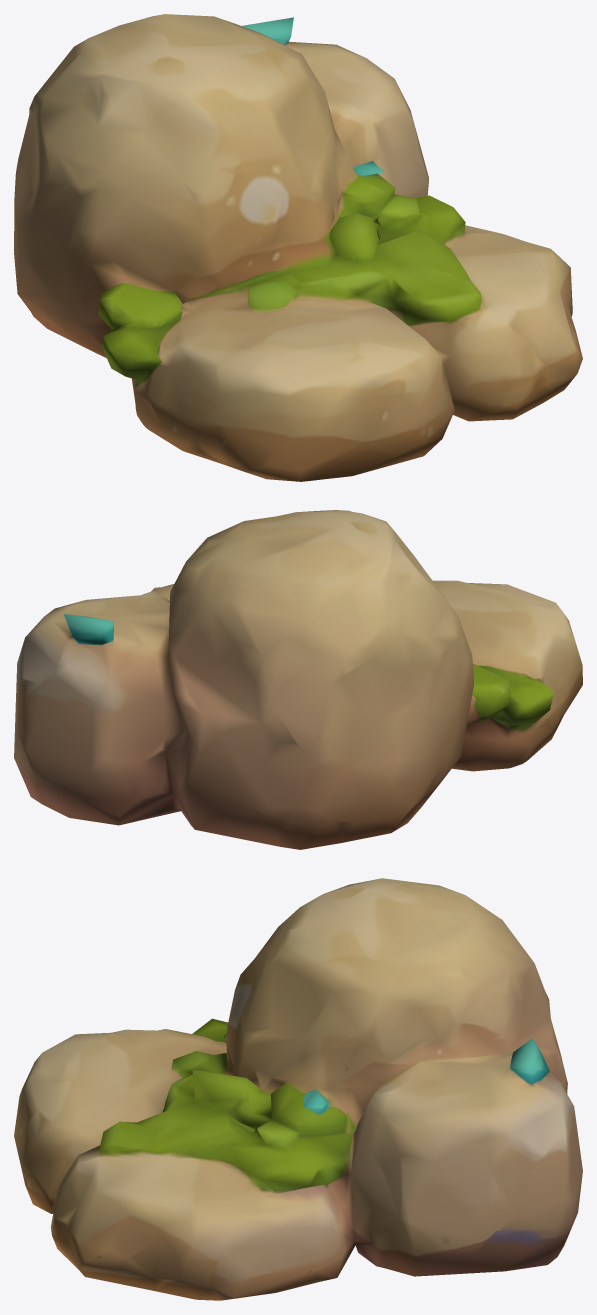
The model's file is textures.glb.
3 renders of one model, top to bottom at view 1: azimuth 30°, elevation 25°; view 2: azimuth 150°, elevation 25°; view 3: azimuth 270°, elevation 25°, orthographic. The views are drawn at different scales.
Parts seen in each view (by area): view 1: tripo_node_1d12c26f-8bc6-442b-88a5-b39dce830dba; view 2: tripo_node_1d12c26f-8bc6-442b-88a5-b39dce830dba; view 3: tripo_node_1d12c26f-8bc6-442b-88a5-b39dce830dba.
Boxes of the visible parts, <box> form: tripo_node_1d12c26f-8bc6-442b-88a5-b39dce830dba: <box>14,14,582,481</box>; tripo_node_1d12c26f-8bc6-442b-88a5-b39dce830dba: <box>14,510,582,849</box>; tripo_node_1d12c26f-8bc6-442b-88a5-b39dce830dba: <box>14,878,582,1300</box>.
Bounding box in the file's own units: 0.8614 × 0.5474 × 1.
1 material, 1 textured.
